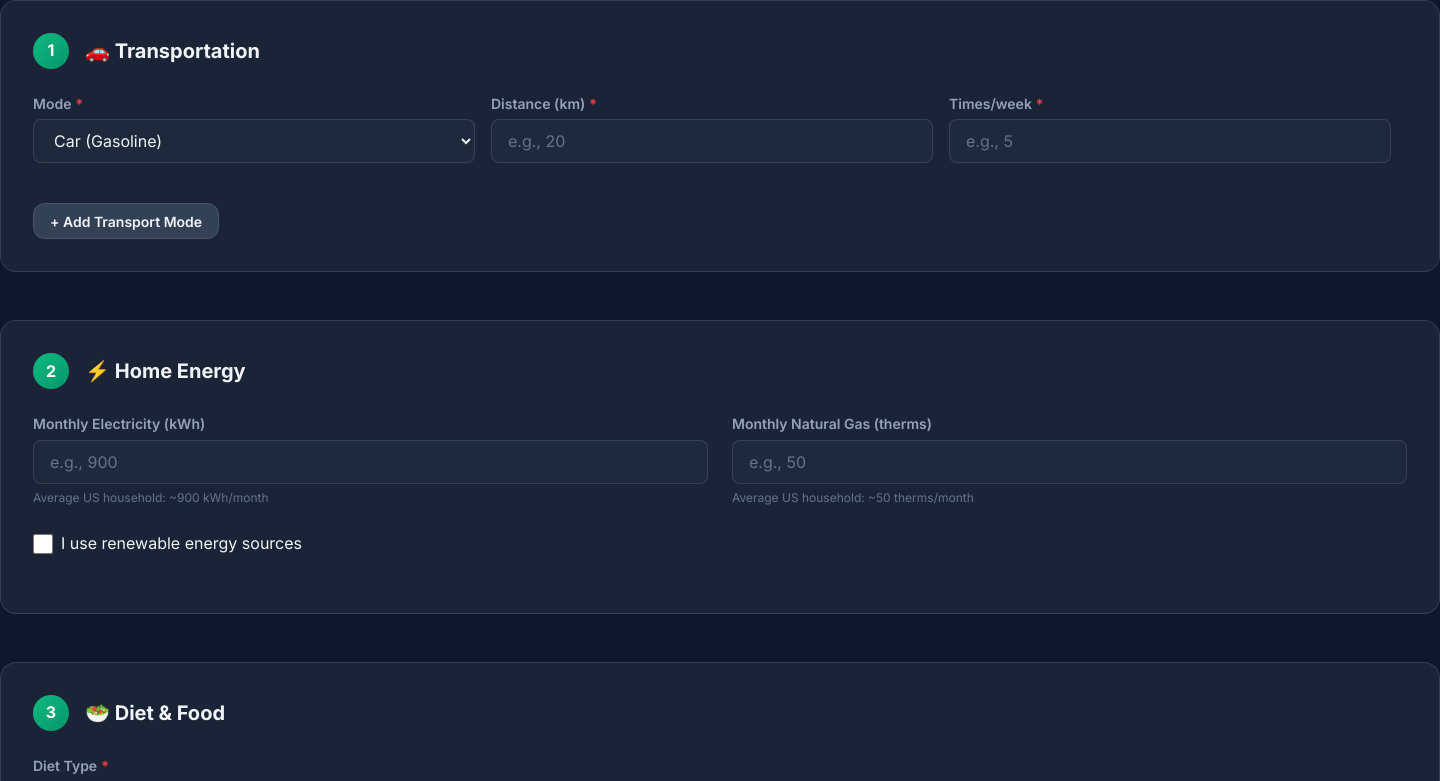
Test case: CarbonCalculator › reveals the renewable slider only when renewable energy is enabled
The image size is (1440, 781).
Expected: the field labelled "Renewable energy percentage" is not shown
Click the checkbox labelled "I use renewable energy sources": (43,544) [33,534,53,554]
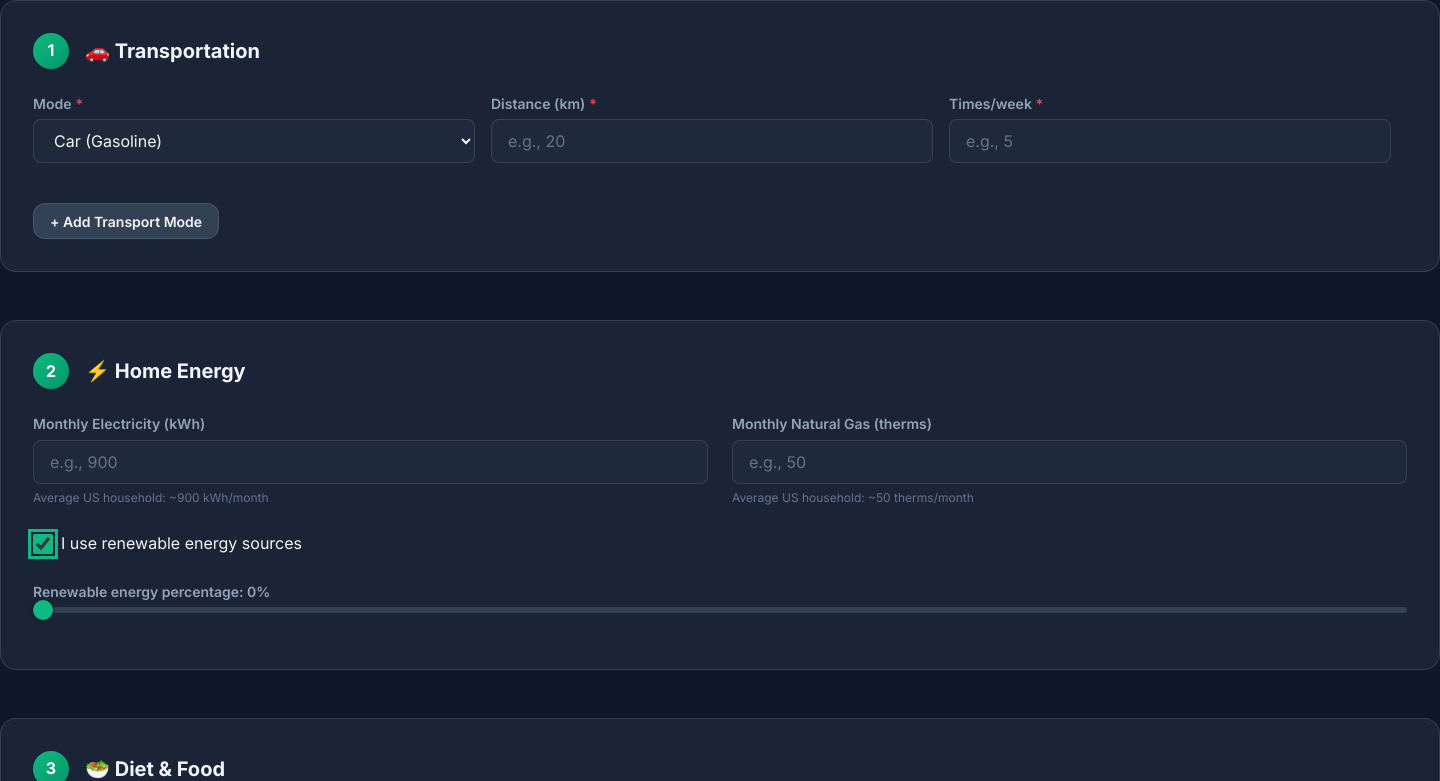
Expected: the slider labelled "Renewable energy percentage: 0%" is shown, [33,607,1407,613]
